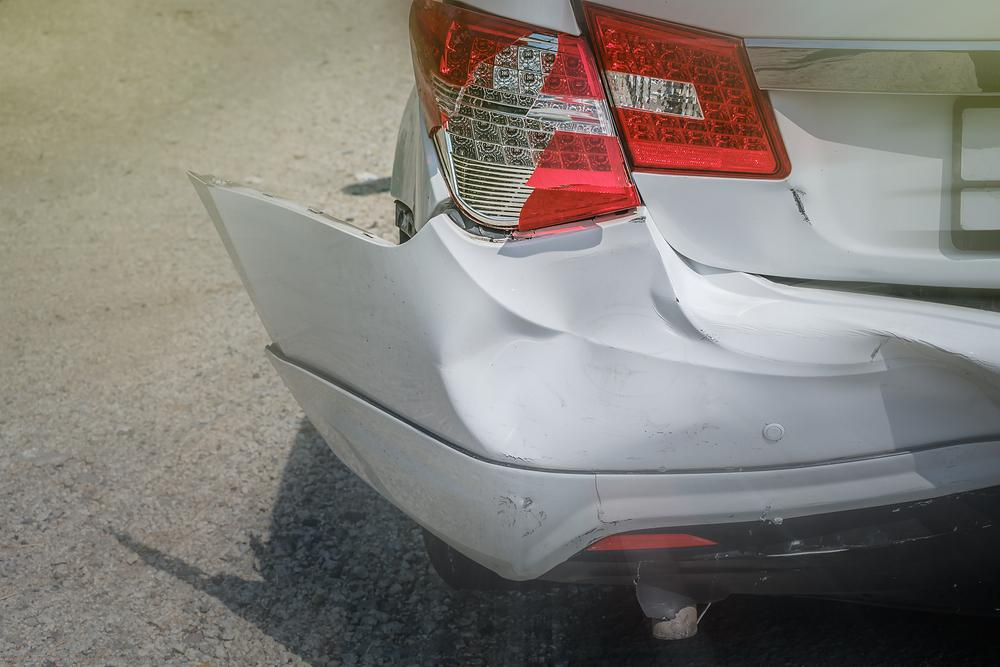dent: (446, 224, 805, 468)
lamp broken: (409, 0, 638, 228)
